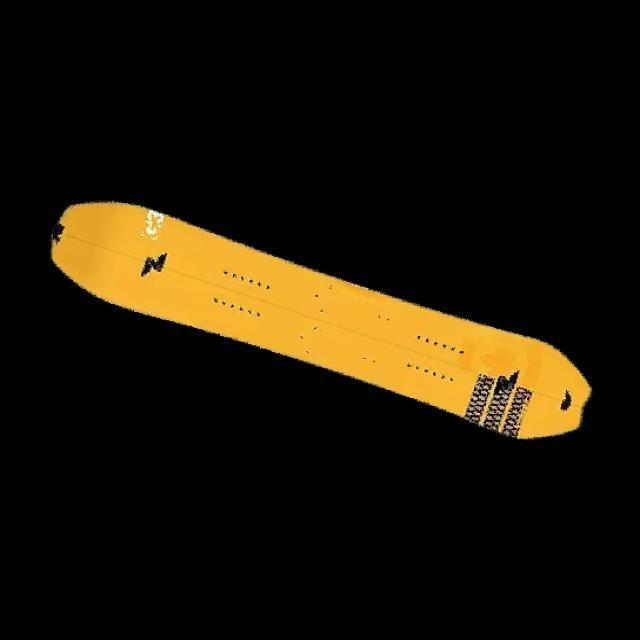Snowboard: (49, 199, 592, 441)
